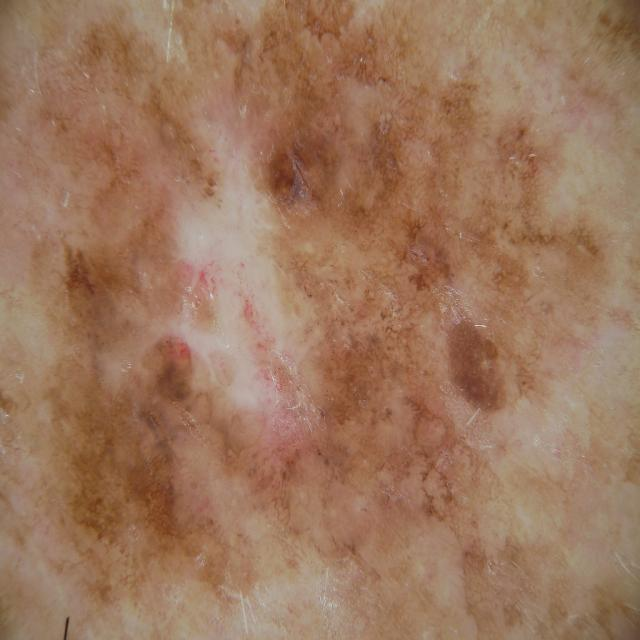Skin-Cancer Melanoma: (7, 10, 640, 640)
